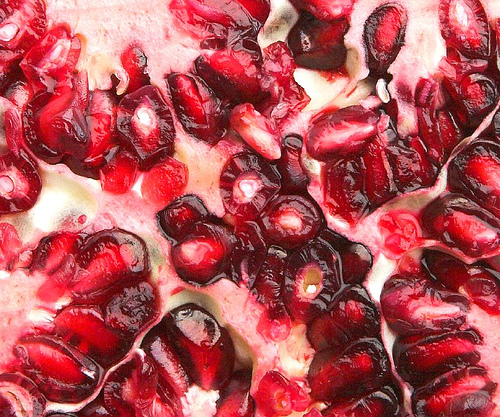pomogranate: (0, 2, 498, 415)
